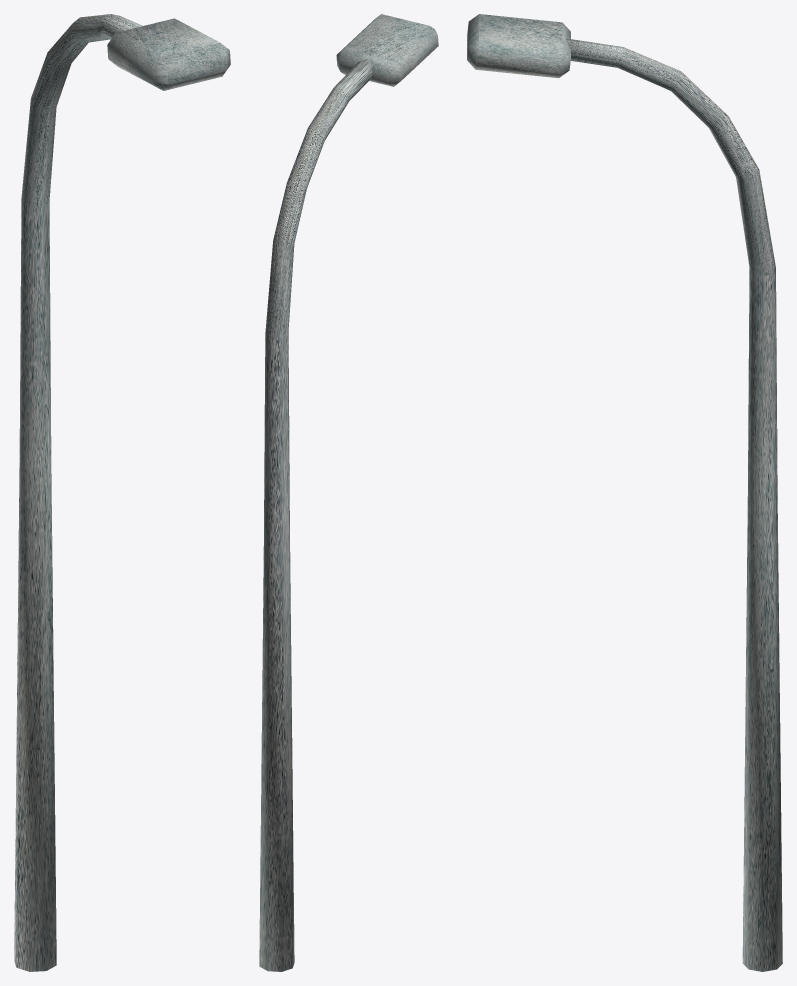
The model's file is StreetLight.fbx.
3 renders of one model, left to right at view 1: azimuth 30°, elevation 25°; view 2: azimuth 150°, elevation 25°; view 3: azimuth 270°, elevation 25°, orthographic. The views are drawn at different scales.
Visible parts, largest first — view 1: StreetLight_LOD0; view 2: StreetLight_LOD0; view 3: StreetLight_LOD0.
Boxes of the visible parts, box(x1,y1,x2,y2) form: StreetLight_LOD0: box(14, 14, 230, 971); StreetLight_LOD0: box(259, 14, 438, 971); StreetLight_LOD0: box(467, 14, 782, 971).
Size of what is drawn, in the model's own units: 97.33 by 1244 by 380.
